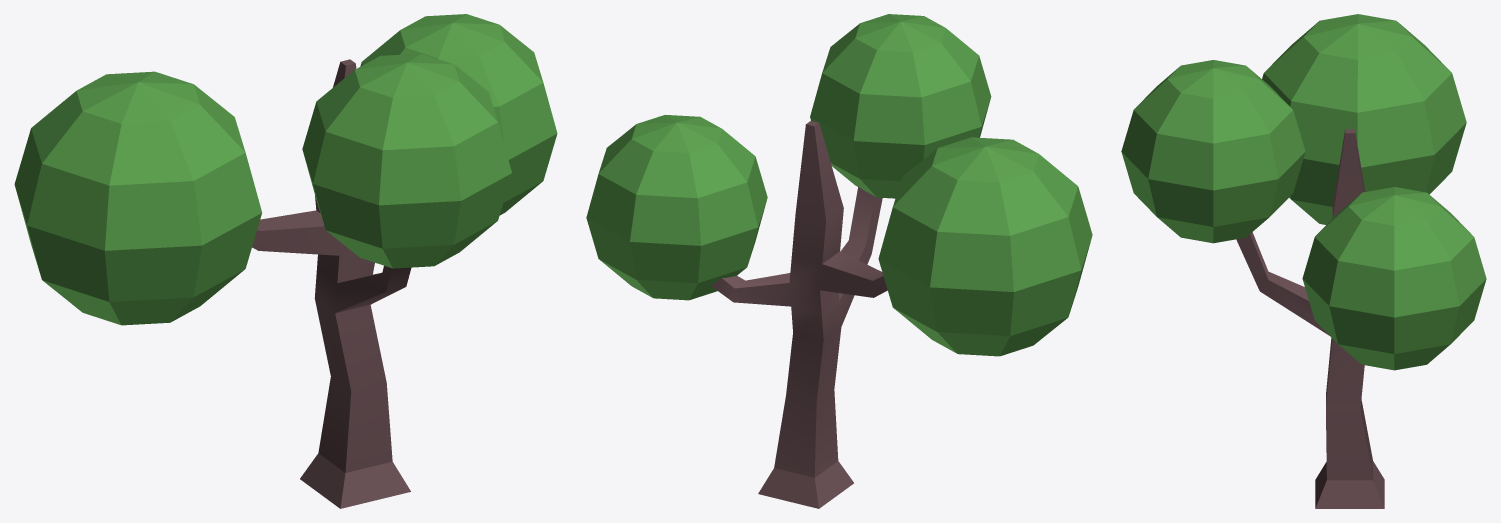
Rendered from tree.fbx.
The picture shows the model from 3 angles, left to right: view 1: azimuth 30°, elevation 25°; view 2: azimuth 150°, elevation 25°; view 3: azimuth 270°, elevation 25°; orthographic projection. The views are drawn at different scales.
Parts seen in each view (by area): view 1: tree; view 2: tree; view 3: tree.
Boxes of the visible parts, x1,y1,x2,y2 form: tree: (14, 14, 557, 508); tree: (586, 14, 1092, 508); tree: (1121, 14, 1486, 508).
Bounding box in the file's own units: 15.26 × 13.18 × 10.53.
1 material, 1 textured.
